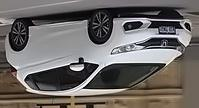Car hood: (102, 48, 183, 65)
Fender - -F-L-: (84, 20, 119, 66)
Fender - -R-L-: (6, 24, 30, 77)
Front bumper: (110, 15, 193, 48)
Headlight - -L-: (110, 43, 146, 55)
Headlight - -R-: (176, 44, 186, 54)
Passenger-s door - -F-L-: (48, 15, 89, 101)
Passenger-s door - -R-L-: (22, 14, 61, 101)
Side bumper - -L-: (28, 14, 89, 42)
Side mirror - -L-: (70, 57, 86, 71)
